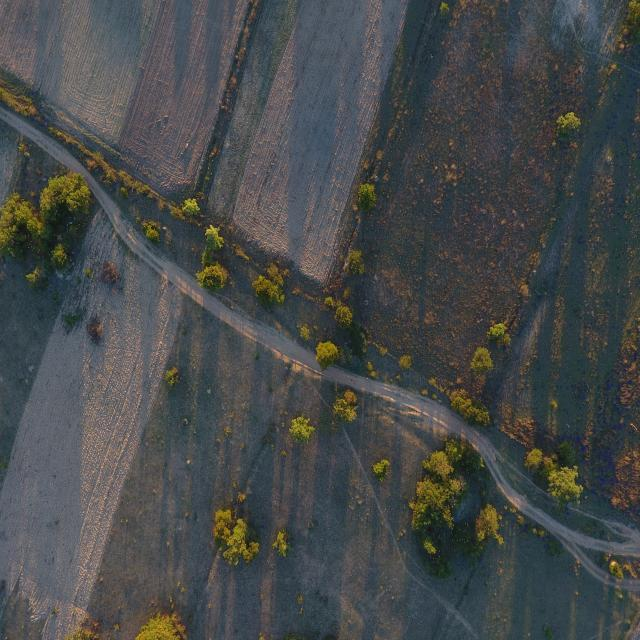boundaries: (170, 5, 442, 339)
